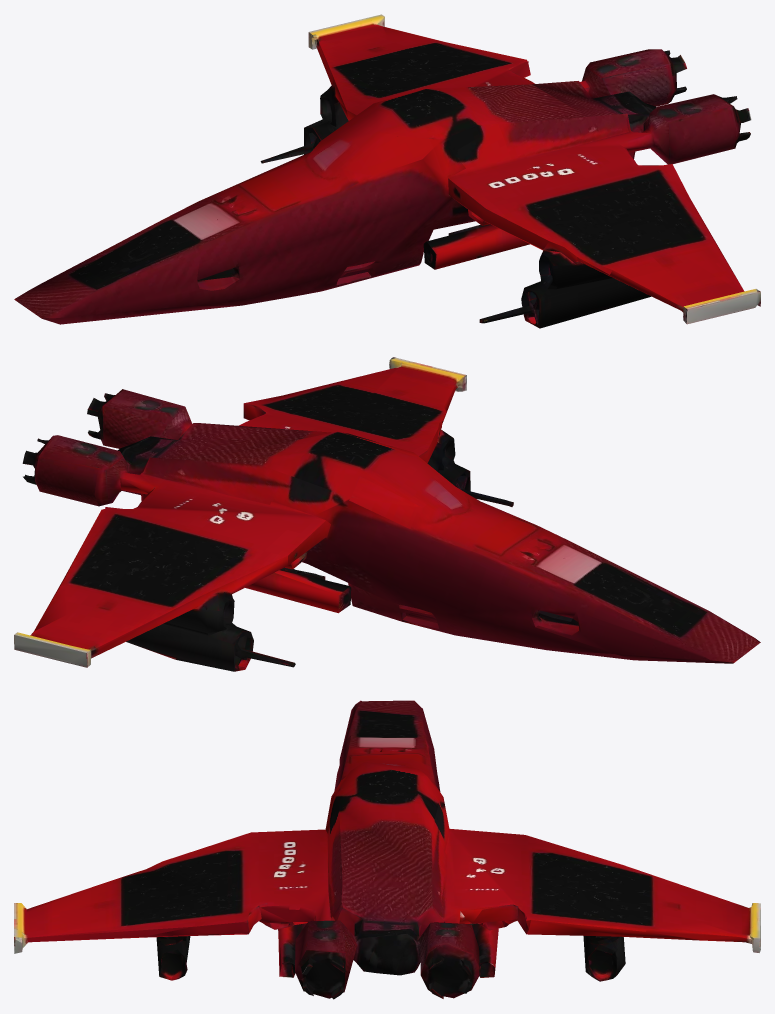
The model's file is stryder.glb.
3 views of the same model, one above another, from view 1: azimuth 30°, elevation 25°; view 2: azimuth 150°, elevation 25°; view 3: azimuth 270°, elevation 25° (orthographic).
Visible parts, largest first — view 1: Mesh0; view 2: Mesh0; view 3: Mesh0.
Part boxes in pixels (x1,y1,x2,y2): Mesh0: (14,14,760,328); Mesh0: (14,357,760,671); Mesh0: (14,700,760,999).
Size of the model in its own units: 1.91 by 0.3983 by 1.84.
Materials: 1 (1 with a texture image).
